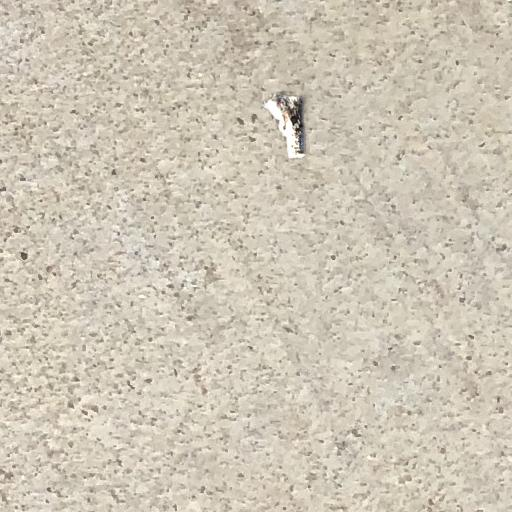smoke: (265, 95, 304, 158)
